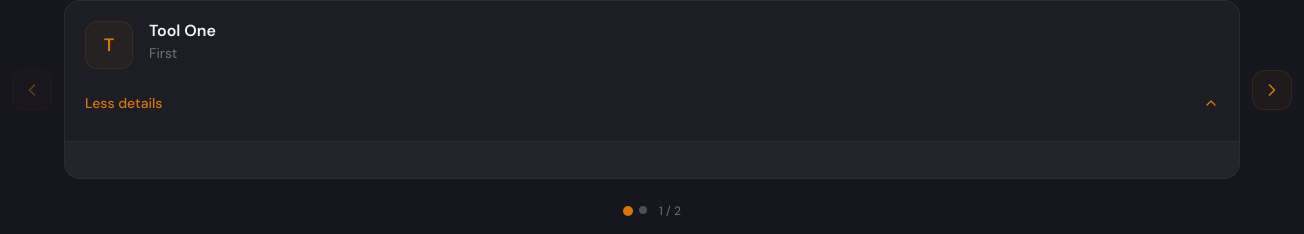
ToolCarousel › navigates to previous tool when prev button clicked
Click the button named "Next tool": click(1272, 90) [1252,70,1292,110]
Wait 420 ms
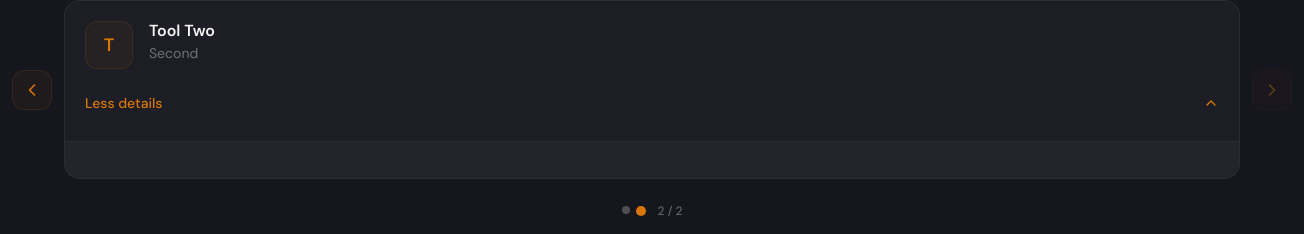
Expected: the heading "Tool Two" is shown, [149,20,215,41]
Click the button named "Previous tool": click(32, 90) [12,70,52,110]
Wait 420 ms
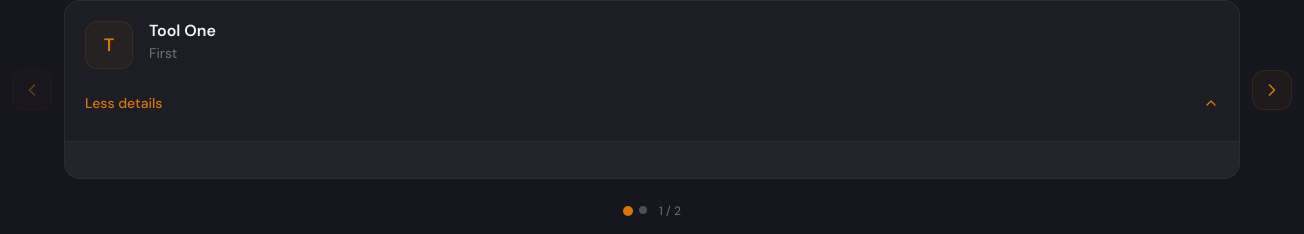
Expected: the heading "Tool One" is shown, [149,20,216,41]
